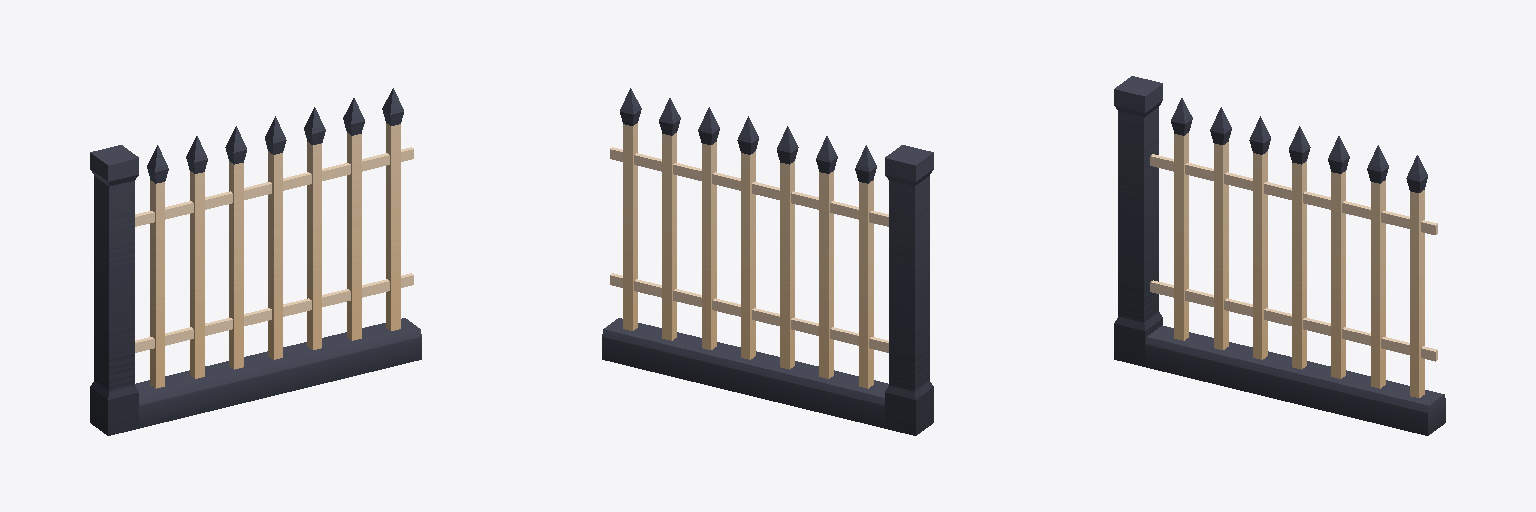
3 views of the same model, side by side, from view 1: azimuth 30°, elevation 25°; view 2: azimuth 150°, elevation 25°; view 3: azimuth 330°, elevation 25° (orthographic).
Visible parts, largest first — view 1: iron-fence-border-column.002; view 2: iron-fence-border-column.002; view 3: iron-fence-border-column.002.
Part boxes in pixels (x1,y1,x2,y2): iron-fence-border-column.002: (90,88,421,435); iron-fence-border-column.002: (602,88,933,435); iron-fence-border-column.002: (1114,76,1445,435).
Size of the model in its own units: 2.45 by 2.02 by 0.245.
Materials: 1 (1 with a texture image).